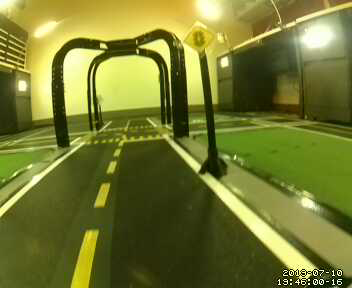Traffic light sign: (183, 22, 217, 51)
